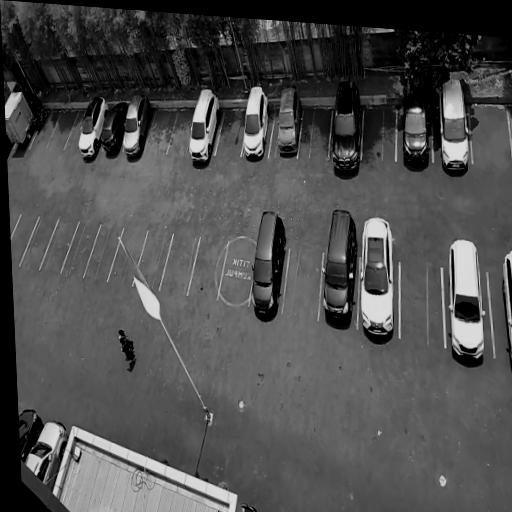Car: (353, 207, 404, 346), (315, 199, 365, 337), (441, 230, 488, 375), (247, 203, 291, 323), (324, 68, 369, 179), (395, 72, 434, 178), (434, 75, 472, 178), (23, 415, 72, 492), (184, 84, 225, 167), (4, 84, 45, 150), (75, 91, 111, 163), (241, 83, 274, 161), (495, 236, 512, 385), (273, 80, 304, 158), (120, 92, 156, 159), (99, 95, 130, 158), (18, 404, 47, 462), (239, 496, 265, 512), (267, 510, 299, 512)
Space Available: (400, 263, 445, 347), (283, 248, 323, 320), (469, 104, 512, 164), (160, 233, 200, 296), (189, 238, 228, 300), (218, 242, 255, 305), (108, 228, 148, 285), (84, 223, 123, 281), (133, 232, 173, 288), (61, 221, 100, 278), (39, 219, 79, 273), (19, 217, 58, 269), (362, 101, 395, 161), (297, 106, 331, 157), (214, 105, 247, 155), (145, 108, 178, 154), (11, 215, 39, 265), (47, 108, 79, 150), (168, 107, 195, 153), (64, 107, 86, 149)
